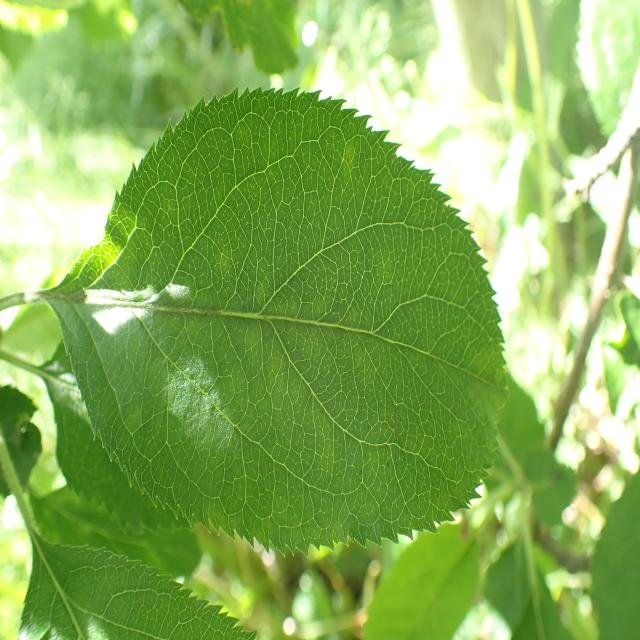scab: (69, 133, 501, 520)
